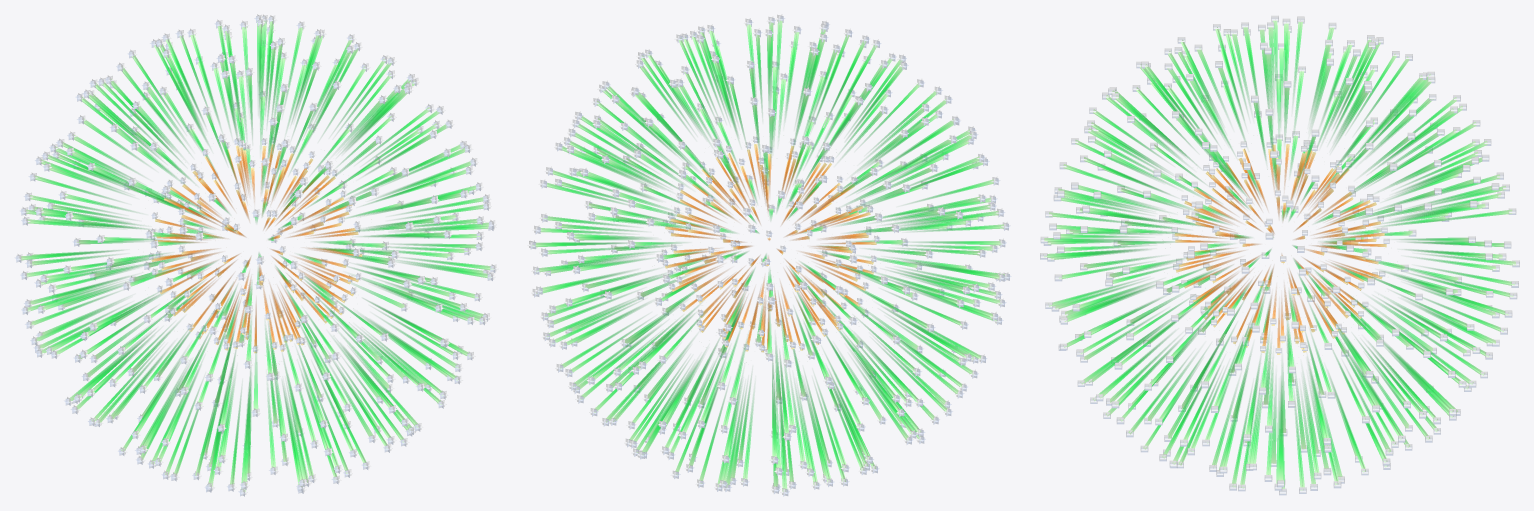
The model's file is fw_peony_green_gold_a.glb.
3 renders of one model, left to right at view 1: azimuth 30°, elevation 25°; view 2: azimuth 150°, elevation 25°; view 3: azimuth 270°, elevation 25°, orthographic.
Visible parts, largest first — view 1: spire; view 2: spire; view 3: spire.
Part boxes in pixels (box(x1,y1,x2,y2)): spire: box(15, 14, 497, 496); spire: box(527, 14, 1011, 496); spire: box(1040, 15, 1519, 495).
Bounding box in the file's own units: 20.25 × 20.26 × 20.27.
Materials: 3 (3 with a texture image).
